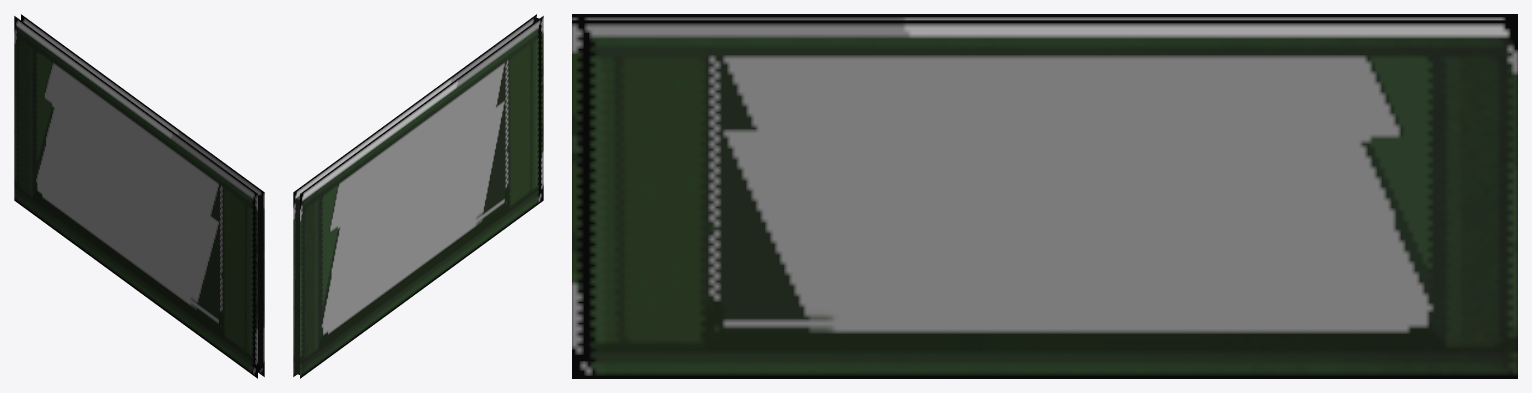
Rendered from pz_native_location_shop_greenes_01_73_frame.obj.
The picture shows the model from 3 angles, left to right: view 1: azimuth 30°, elevation 25°; view 2: azimuth 150°, elevation 25°; view 3: azimuth 270°, elevation 25°; orthographic projection. The views are drawn at different scales.
Visible parts, largest first — view 1: pz_native_location_shop_greenes_01_73_frame; view 2: pz_native_location_shop_greenes_01_73_frame; view 3: pz_native_location_shop_greenes_01_73_frame.
Part boxes in pixels (bbox=[...]): pz_native_location_shop_greenes_01_73_frame: bbox=[14, 14, 264, 378]; pz_native_location_shop_greenes_01_73_frame: bbox=[293, 14, 543, 378]; pz_native_location_shop_greenes_01_73_frame: bbox=[572, 14, 1517, 378].
Size of the model in its own units: 0.04 by 1.06 by 2.54.
Materials: 1 (1 with a texture image).
